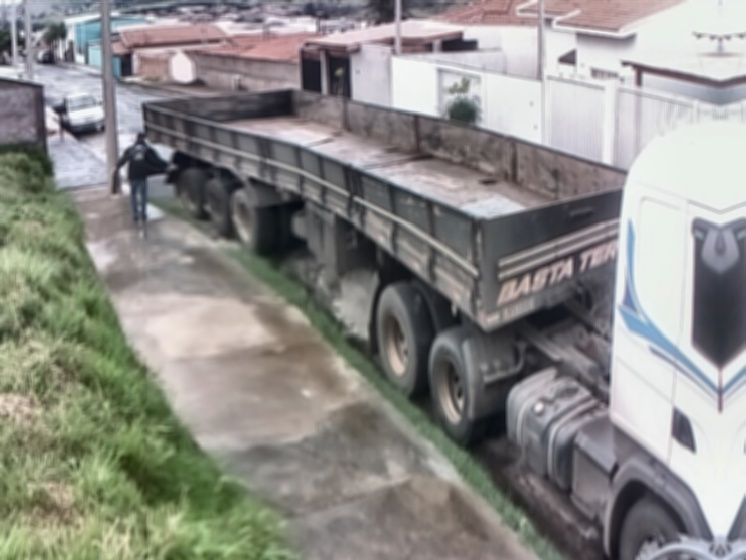person: (111, 130, 180, 222)
